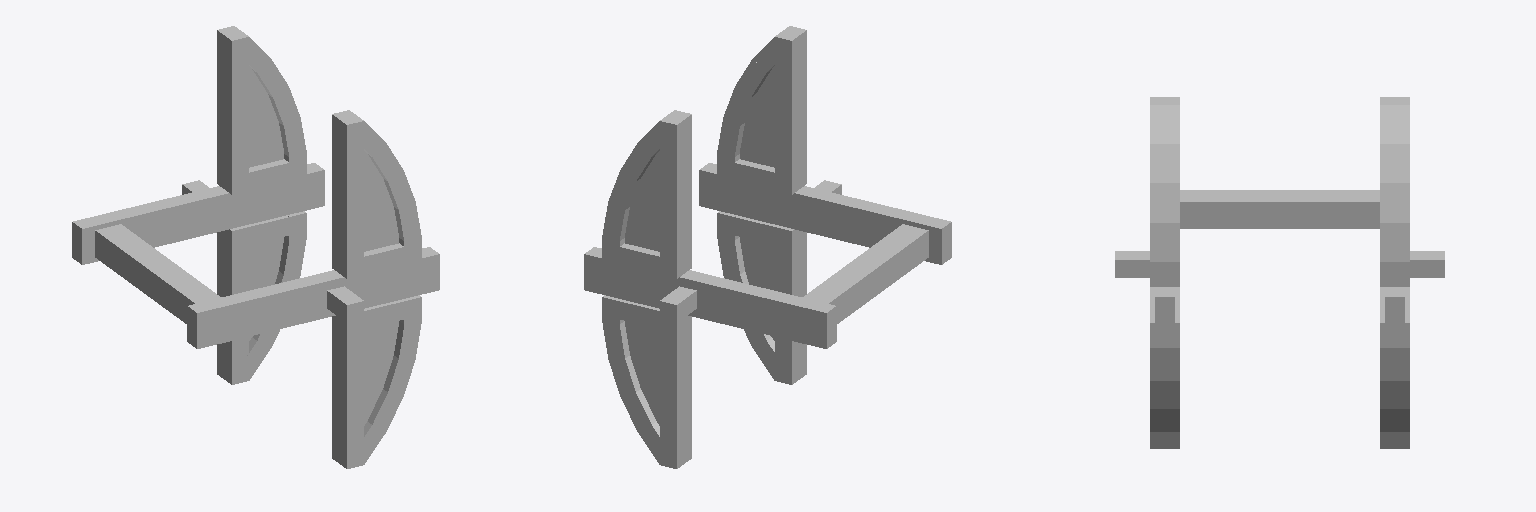
File: pumpjack_swingy.obj
The picture shows the model from 3 angles: view 1: azimuth 30°, elevation 25°; view 2: azimuth 150°, elevation 25°; view 3: azimuth 270°, elevation 25°; orthographic projection.
Visible parts, largest first — view 1: cube.000, cube, cube.004, cube.005, cube.003, cube.025, cube.024, cube.008, cube.009, cube.029, cube.010, cube.011 (+20 smaller); view 2: cube, cube.000, cube.003, cube.004, cube.005, cube.024, cube.025, cube.009, cube.008, cube.028, cube.011, cube.010 (+20 smaller); view 3: cube.003, cube.020, cube.021, cube.016, cube.017, cube.018, cube.019, cube.022, cube.023, cube.042, cube.043, cube.001 (+11 smaller).
Part boxes in pixels (x1,y1,x2,y2): cube.000: (187, 247, 439, 348); cube: (72, 163, 324, 264); cube.004: (217, 26, 248, 194); cube.005: (332, 110, 363, 278); cube.003: (95, 224, 221, 323); cube.025: (332, 316, 363, 468); cube.024: (217, 225, 248, 384); cube.008: (249, 66, 261, 167); cube.009: (364, 151, 376, 251); cube.029: (364, 326, 376, 425); cube.010: (262, 85, 278, 164); cube.011: (377, 169, 393, 248); cube: (584, 247, 836, 348); cube.000: (699, 163, 951, 264); cube.003: (802, 224, 928, 323); cube.004: (660, 110, 691, 278); cube.005: (775, 26, 806, 194); cube.024: (660, 316, 691, 468); cube.025: (775, 225, 806, 384); cube.009: (762, 66, 774, 167); cube.008: (647, 151, 659, 251); cube.028: (647, 326, 659, 425); cube.011: (745, 85, 761, 164); cube.010: (630, 169, 646, 248); cube.003: (1180, 190, 1379, 228); cube.020: (1380, 183, 1409, 222); cube.021: (1150, 183, 1179, 222); cube.016: (1380, 105, 1409, 143); cube.017: (1150, 105, 1179, 143); cube.018: (1380, 144, 1409, 182); cube.019: (1150, 144, 1179, 182); cube.022: (1380, 223, 1409, 261); cube.023: (1150, 223, 1179, 261); cube.042: (1380, 348, 1409, 380); cube.043: (1150, 348, 1179, 380); cube.001: (1410, 251, 1444, 277).
Bounding box in the file's own units: 1.75 × 2.38 × 2.06.